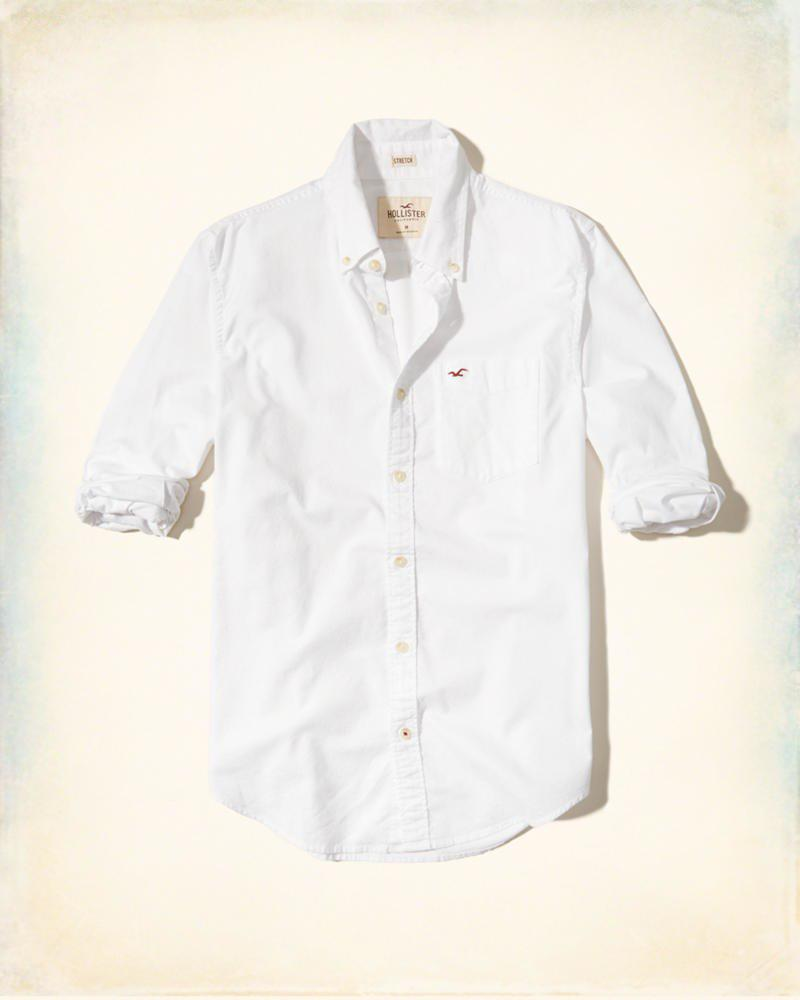teeshirt: (70, 115, 723, 869)
